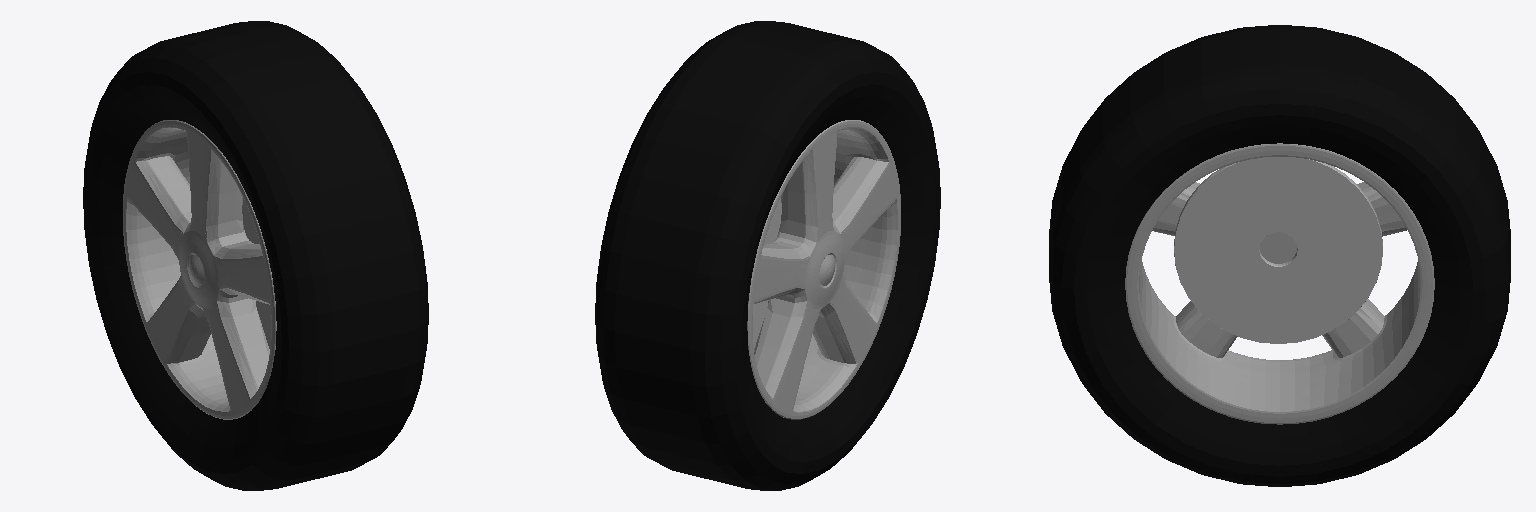
File: AutoB_LLDD.obj
3 views of the same model, side by side, from view 1: azimuth 30°, elevation 25°; view 2: azimuth 150°, elevation 25°; view 3: azimuth 270°, elevation 25° (orthographic).
Visible parts, largest first — view 1: Tire4, Disk4, brake4; view 2: Tire4, Disk4, brake4; view 3: Tire4, Disk4, brake4.
Boxes of the visible parts, x1=… form: Tire4: x1=83, y1=21, x2=428, y2=490; Disk4: x1=123, y1=120, x2=276, y2=419; brake4: x1=242, y1=198, x2=271, y2=348; Tire4: x1=595, y1=21, x2=940, y2=490; Disk4: x1=747, y1=120, x2=900, y2=419; brake4: x1=753, y1=198, x2=781, y2=347; Tire4: x1=1049, y1=25, x2=1510, y2=486; Disk4: x1=1125, y1=143, x2=1434, y2=424; brake4: x1=1174, y1=157, x2=1382, y2=343.
Size of the model in its own units: 1.23 by 3.47 by 3.47.